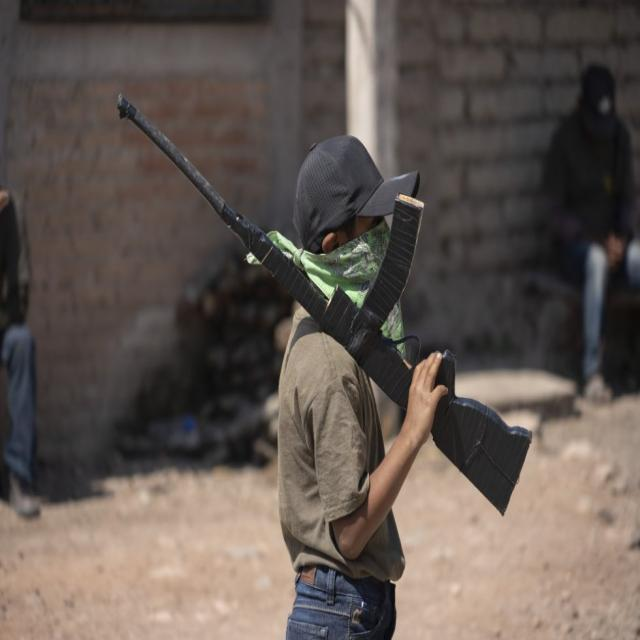weapon: (118, 95, 534, 518)
